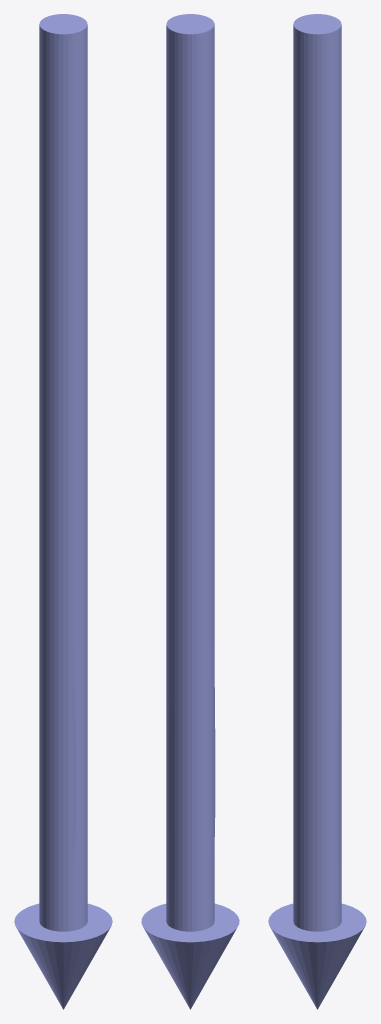
File: GADE Ice Spear.fbx
3 renders of one model, left to right at view 1: azimuth 90°, elevation 25°; view 2: azimuth 150°, elevation 25°; view 3: azimuth 270°, elevation 25°, orthographic.
Visible parts, largest first — view 1: Cylinder; view 2: Cylinder; view 3: Cylinder.
Boxes of the visible parts, x1=… form: Cylinder: x1=14, y1=14, x2=112, y2=1009; Cylinder: x1=141, y1=14, x2=239, y2=1009; Cylinder: x1=268, y1=14, x2=366, y2=1009.
Size of the model in its own units: 47.73 by 528 by 47.73.
